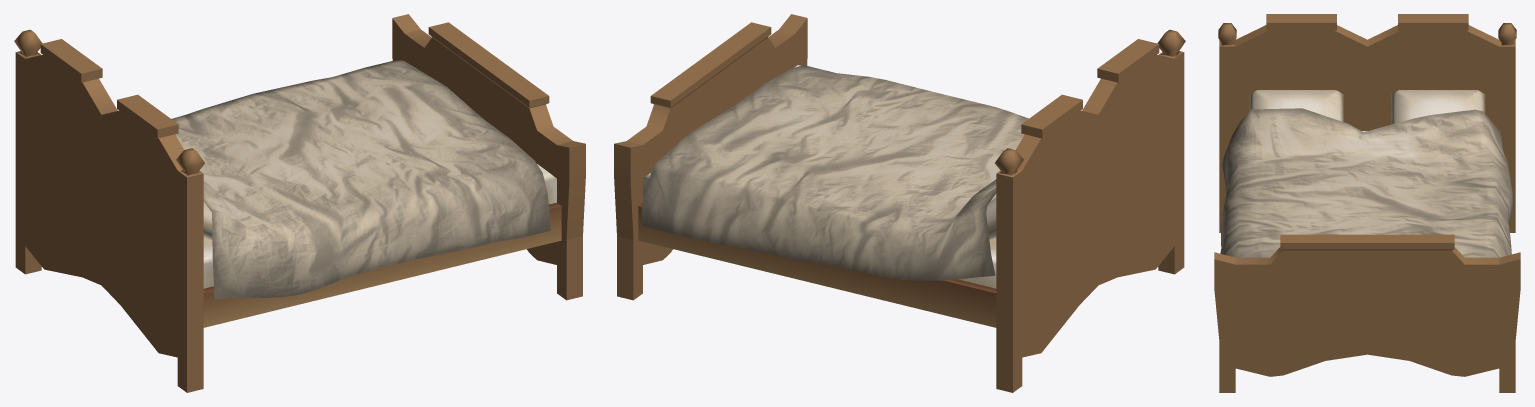
File: bed.fbx
3 renders of one model, left to right at view 1: azimuth 30°, elevation 25°; view 2: azimuth 150°, elevation 25°; view 3: azimuth 270°, elevation 25°, orthographic. The views are drawn at different scales.
Visible parts, largest first — view 1: bed; view 2: bed; view 3: bed.
Part boxes in pixels (left/top/right/bottom): bed: left=14, top=14, right=585, bottom=392; bed: left=614, top=14, right=1185, bottom=392; bed: left=1214, top=14, right=1520, bottom=392.
Bounding box in the file's own units: 242 × 141 × 186.
Materials: 3 (3 with a texture image).
